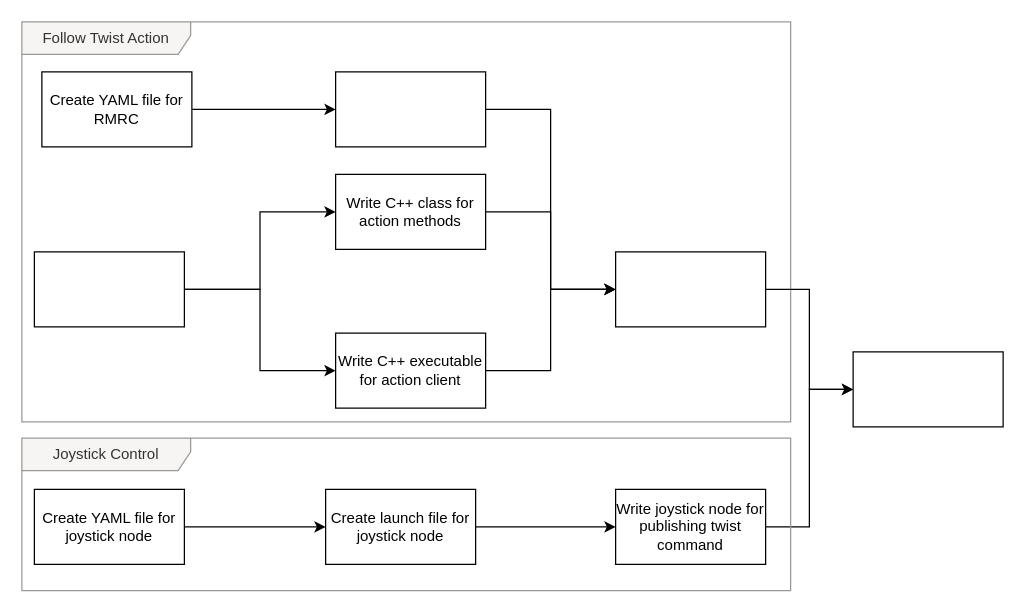
The diagram is 1025 pixels wide and 613 high, and some of its shapes have lost their labels. The centre of each missing label's shape, as x and y in pixels:
Create Action definition for RMRC: the point at 108,289
Create launch file for RMRC: the point at 410,109
Test RMRC on robot: the point at 927,389
Write C++ executable for action server: the point at 690,289
